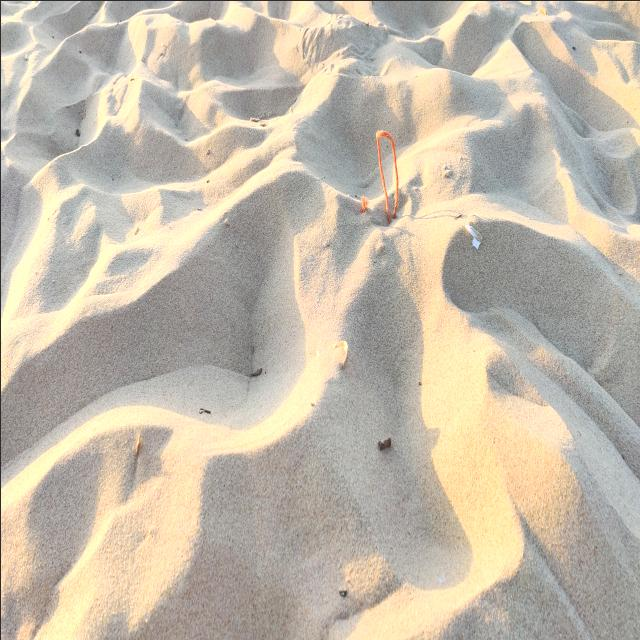Rope - strings: (359, 128, 398, 222)
Unlabeled litter: (464, 221, 481, 249)
